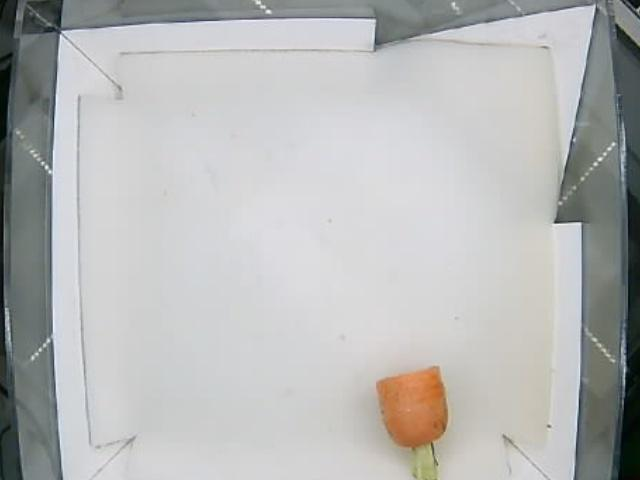Carrot: (376, 364, 456, 480)
